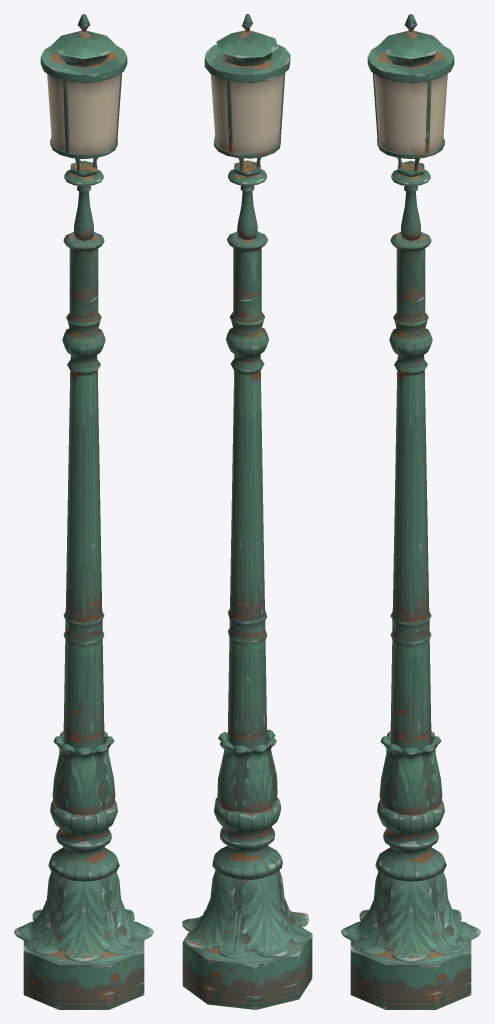
Rendered from Streetlight_Single.glb.
The picture shows the model from 3 angles, left to right: view 1: azimuth 90°, elevation 25°; view 2: azimuth 210°, elevation 25°; view 3: azimuth 270°, elevation 25°; orthographic projection.
Parts seen in each view (by area): view 1: StreetLamp_1_LOD0; view 2: StreetLamp_1_LOD0; view 3: StreetLamp_1_LOD0.
Part boxes in pixels (box(x1,y1,x2,y2)): StreetLamp_1_LOD0: box(14, 14, 153, 1009); StreetLamp_1_LOD0: box(182, 14, 312, 1009); StreetLamp_1_LOD0: box(341, 14, 480, 1009).
Size of the model in its own units: 0.5279 by 4.04 by 0.5279.
1 material, 1 textured.
